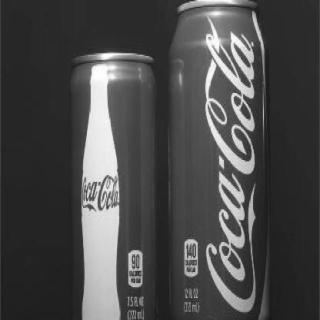alumunium_can: (167, 1, 271, 320), (68, 52, 160, 320)
